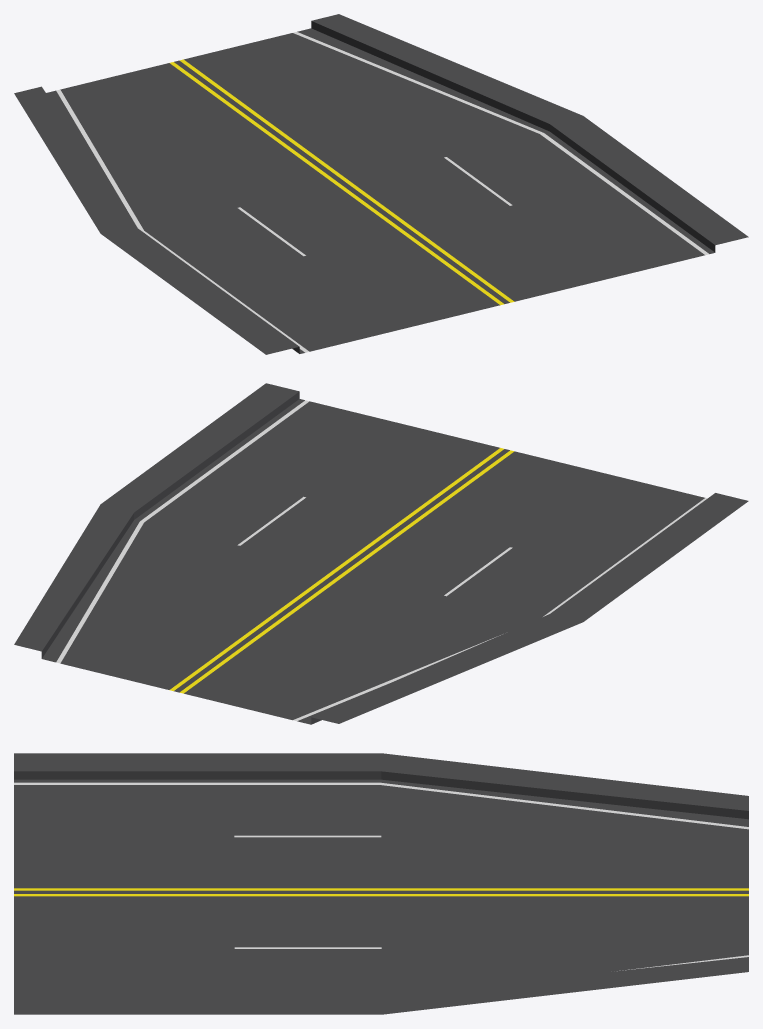
File: new2linesmerge.fbx
3 views of the same model, one above another, from view 1: azimuth 30°, elevation 25°; view 2: azimuth 150°, elevation 25°; view 3: azimuth 270°, elevation 25° (orthographic). The views are drawn at different scales.
Parts seen in each view (by area): view 1: Plane.001; view 2: Plane.001; view 3: Plane.001.
Part boxes in pixels (x1,y1,x2,y2): Plane.001: (14,14,748,354); Plane.001: (14,383,748,724); Plane.001: (14,753,748,1014).
Bounding box in the file's own units: 1684 × 25 × 2000.
